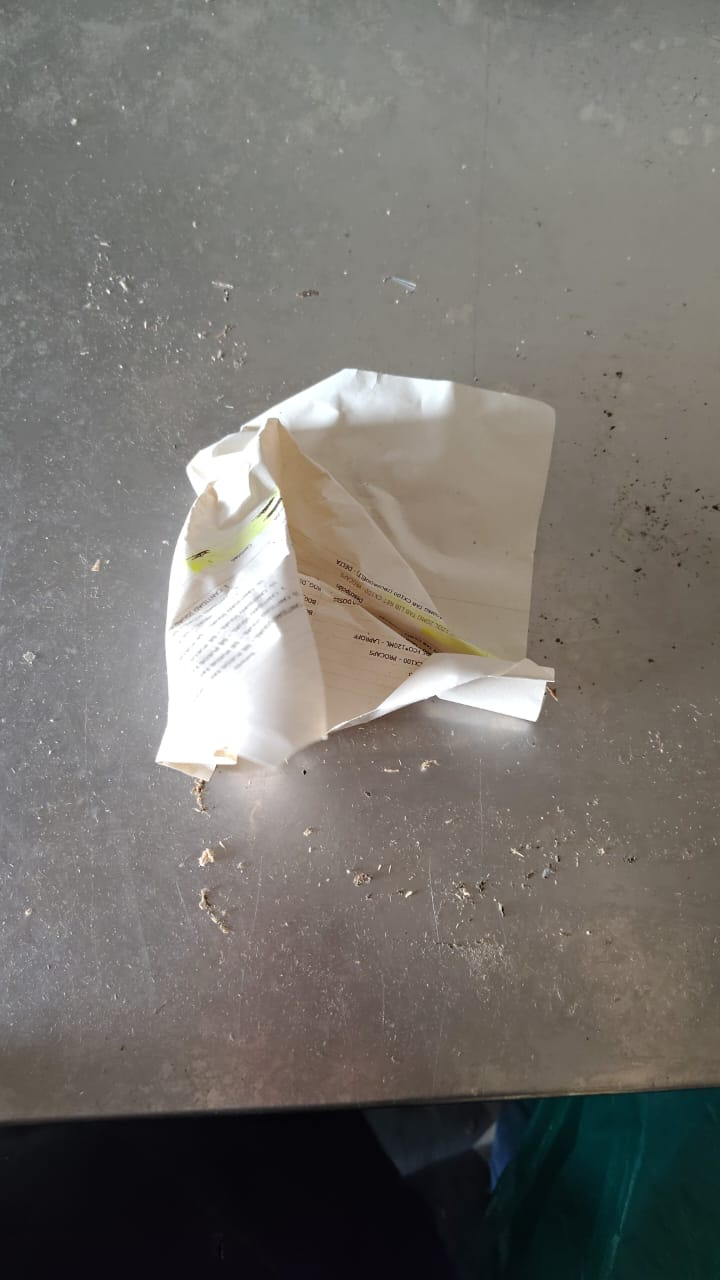Papel: (157, 368, 559, 775)
